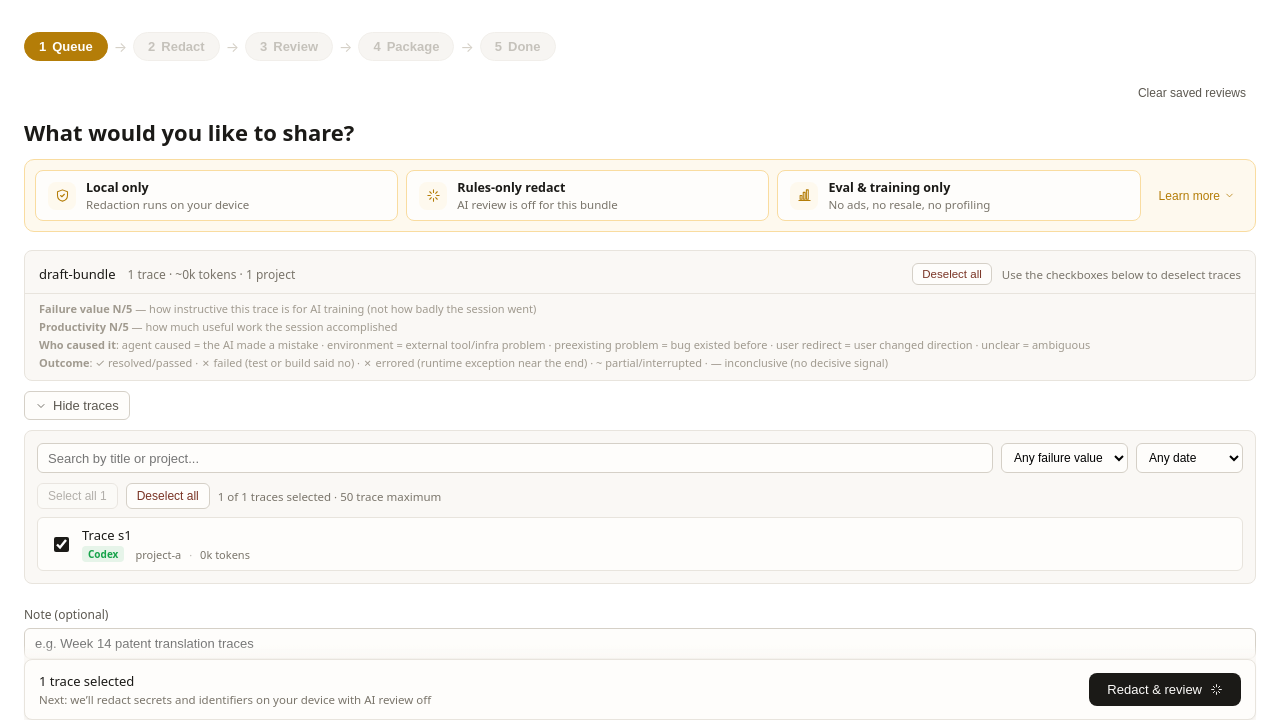
Test: Reviewed share versions › clears saved reviews only after confirmation and reports the result
Click the button "Clear saved reviews".
click(1192, 93)  # box x1=1128 y1=81 x2=1256 y2=105
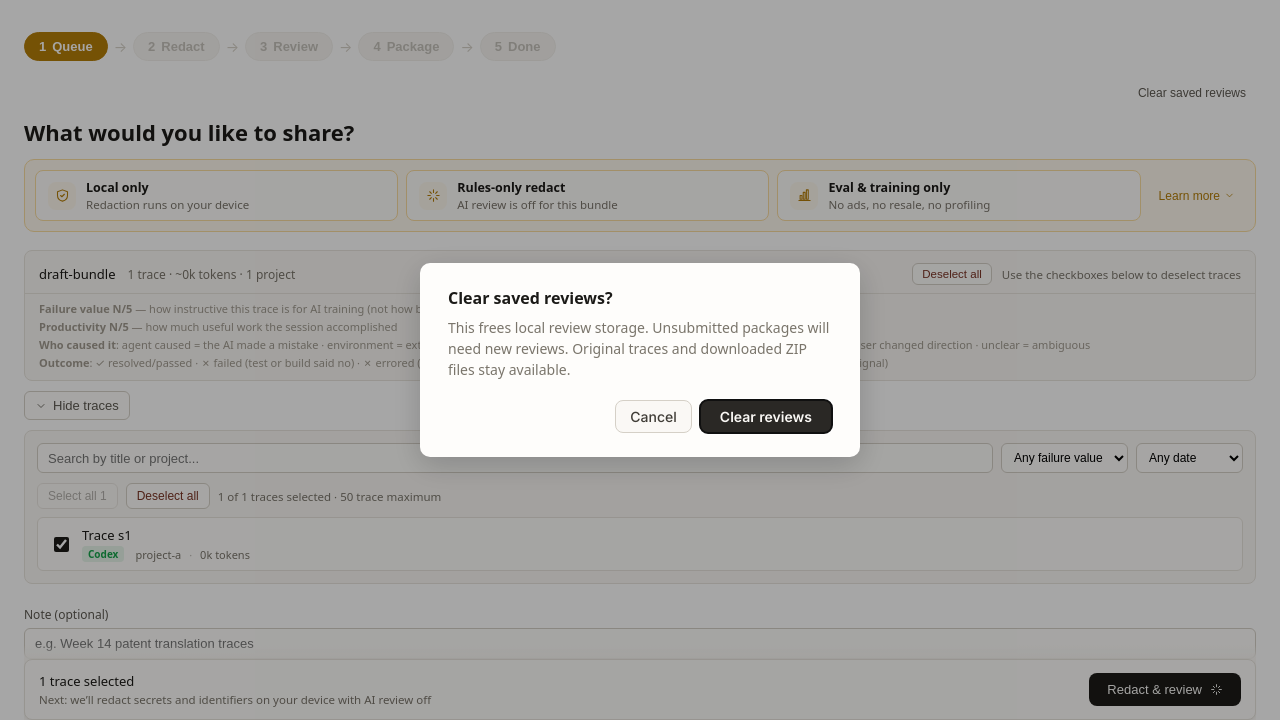
Now the text "Unsubmitted packages will need new reviews" is shown, box x1=448 y1=318 x2=829 y2=379
Click the button "Clear reviews".
click(766, 416)  # box x1=700 y1=400 x2=832 y2=433
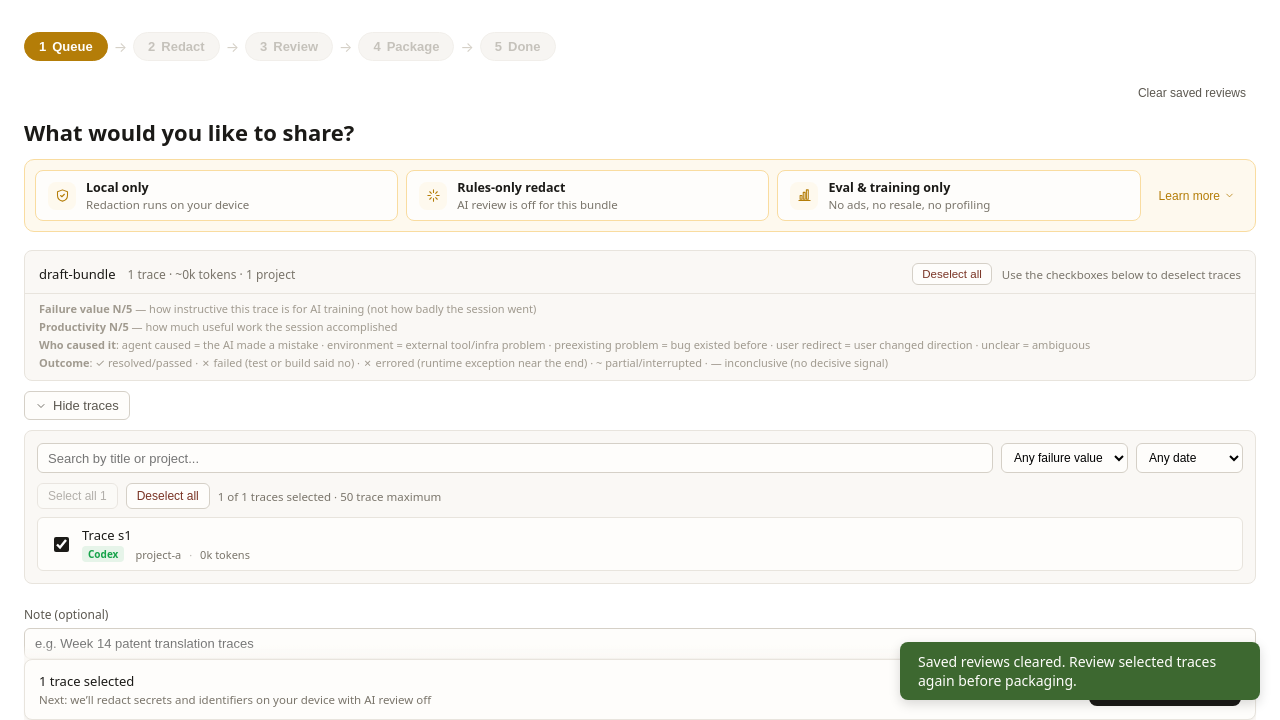
Now the text "Saved reviews cleared" is shown, box x1=918 y1=652 x2=1216 y2=690
